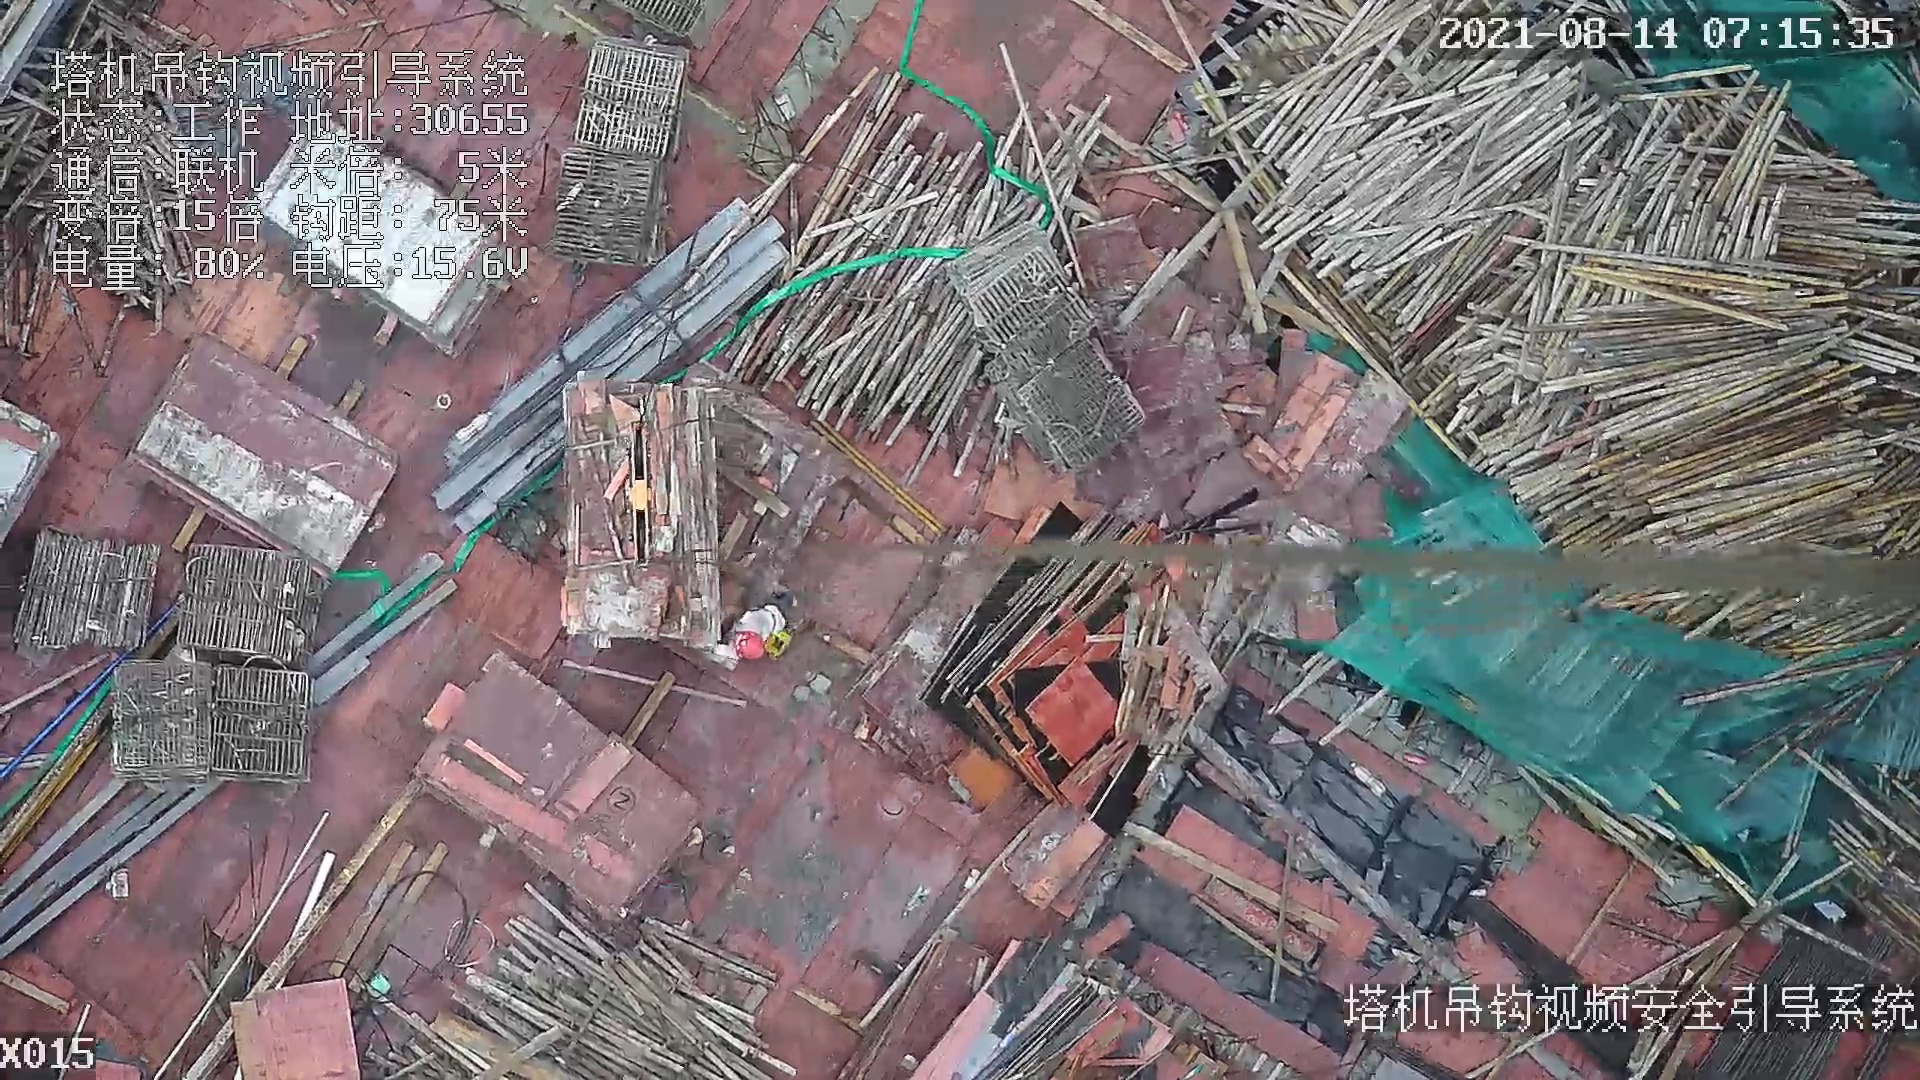helmet: (734, 628, 764, 663)
hook: (622, 413, 660, 568)
person: (703, 599, 801, 668)
